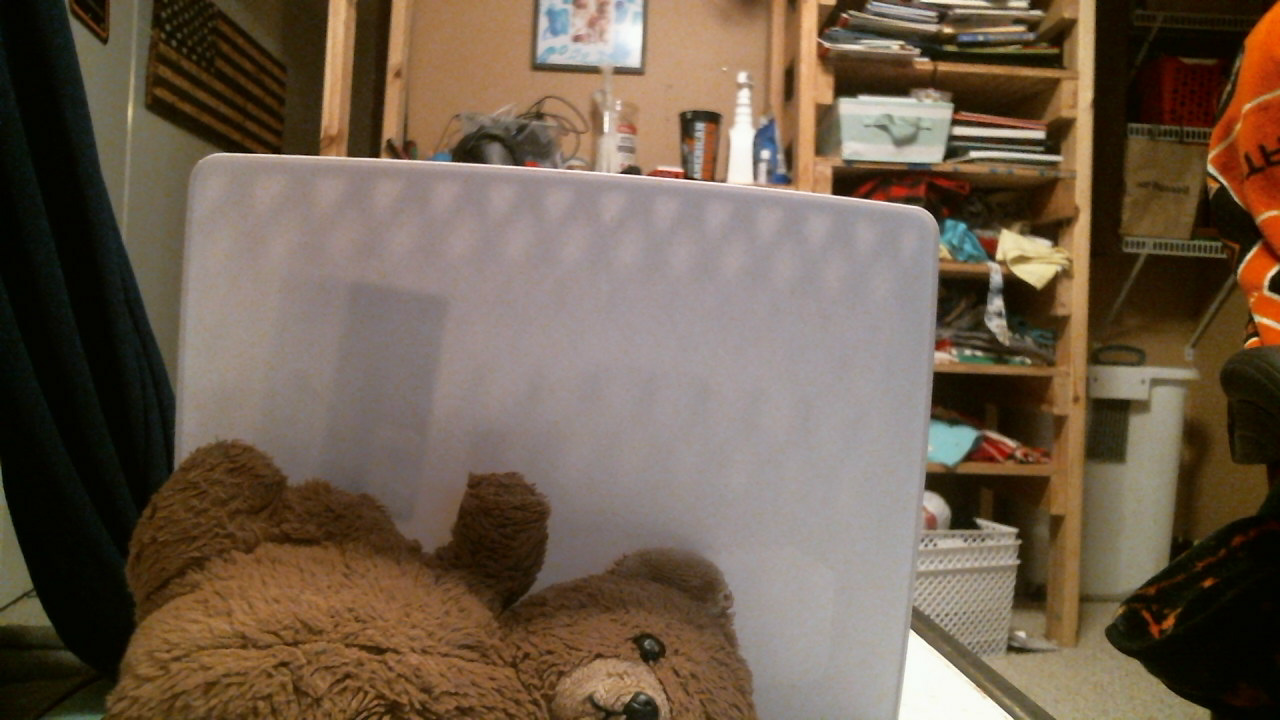Little_Mister_Bear: (554, 627, 724, 713)
